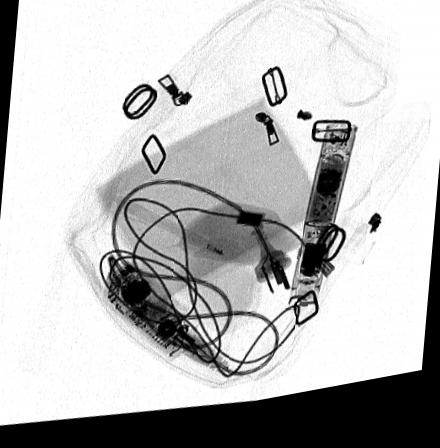Baton: (288, 136, 358, 313)
